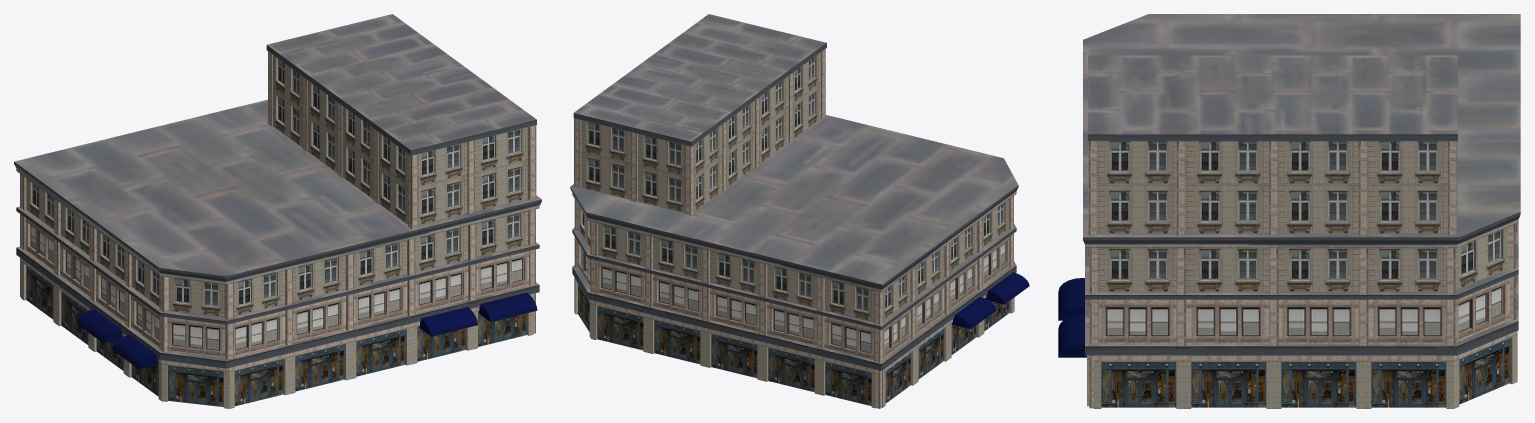
Rendered from game_ready_building_5.glb.
3 renders of one model, left to right at view 1: azimuth 30°, elevation 25°; view 2: azimuth 150°, elevation 25°; view 3: azimuth 270°, elevation 25°, orthographic. The views are drawn at different scales.
Parts seen in each view (by area): view 1: Plane.065; view 2: Plane.065; view 3: Plane.065.
Boxes of the visible parts, x1,y1,x2,y2 form: Plane.065: [14, 14, 541, 408]; Plane.065: [570, 14, 1029, 408]; Plane.065: [1058, 14, 1520, 408].
Size of the model in its own units: 0.3034 by 0.1661 by 0.2538.
3 materials, 3 textured.
